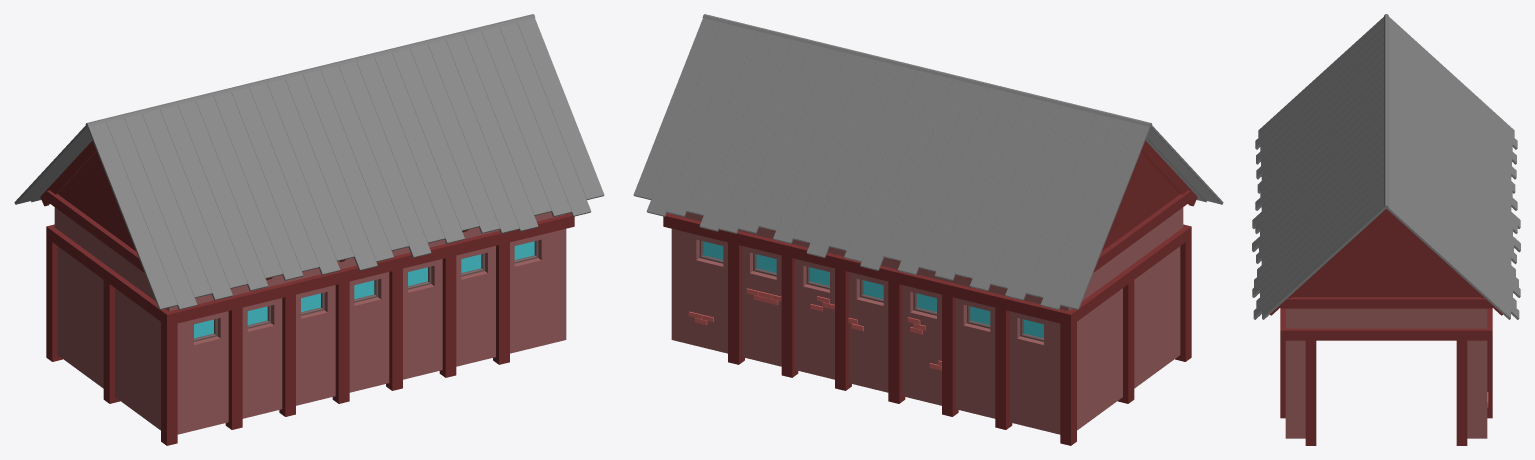
The model's file is SM_Storage.fbx.
3 views of the same model, side by side, from view 1: azimuth 30°, elevation 25°; view 2: azimuth 150°, elevation 25°; view 3: azimuth 270°, elevation 25° (orthographic). The views are drawn at different scales.
Parts seen in each view (by area): view 1: Cube.003, Cube, Plane.001; view 2: Cube.003, Cube, Plane.001; view 3: Cube.003, Cube, Plane.001.
Boxes of the visible parts, bbox=[...] form: Cube.003: bbox=[14, 18, 604, 309]; Cube: bbox=[46, 207, 574, 445]; Plane.001: bbox=[85, 14, 535, 126]; Cube.003: bbox=[633, 18, 1223, 309]; Cube: bbox=[663, 207, 1191, 445]; Plane.001: bbox=[702, 14, 1152, 126]; Cube.003: bbox=[1252, 17, 1520, 319]; Cube: bbox=[1280, 308, 1492, 445]; Plane.001: bbox=[1384, 14, 1388, 207].
Bounding box in the file's own units: 901 × 545 × 534.
